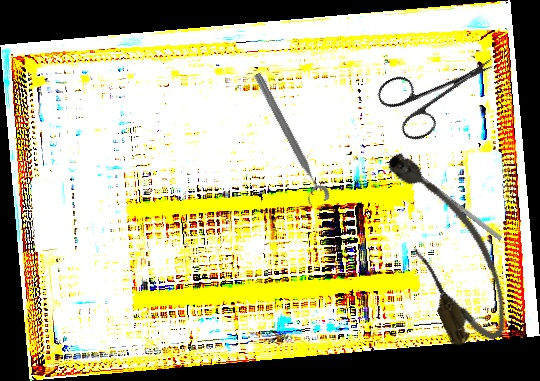Cannula: (374, 135, 522, 356)
Fixation Ring: (242, 70, 332, 209)
Iris Scissors: (373, 31, 509, 148)
Pusher: (382, 148, 503, 241)
